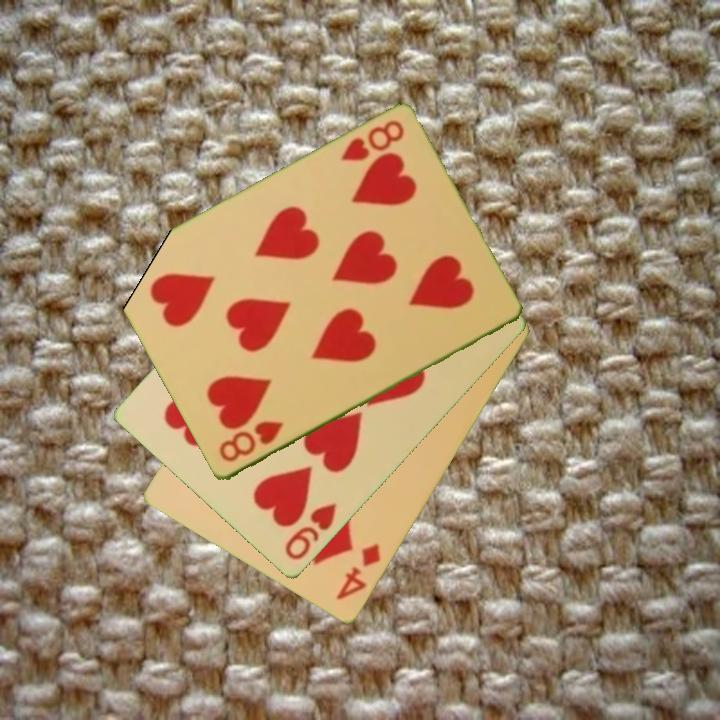4d: (332, 540, 384, 604)
8h: (215, 417, 286, 466), (337, 117, 407, 165)
9h: (281, 500, 340, 564)
